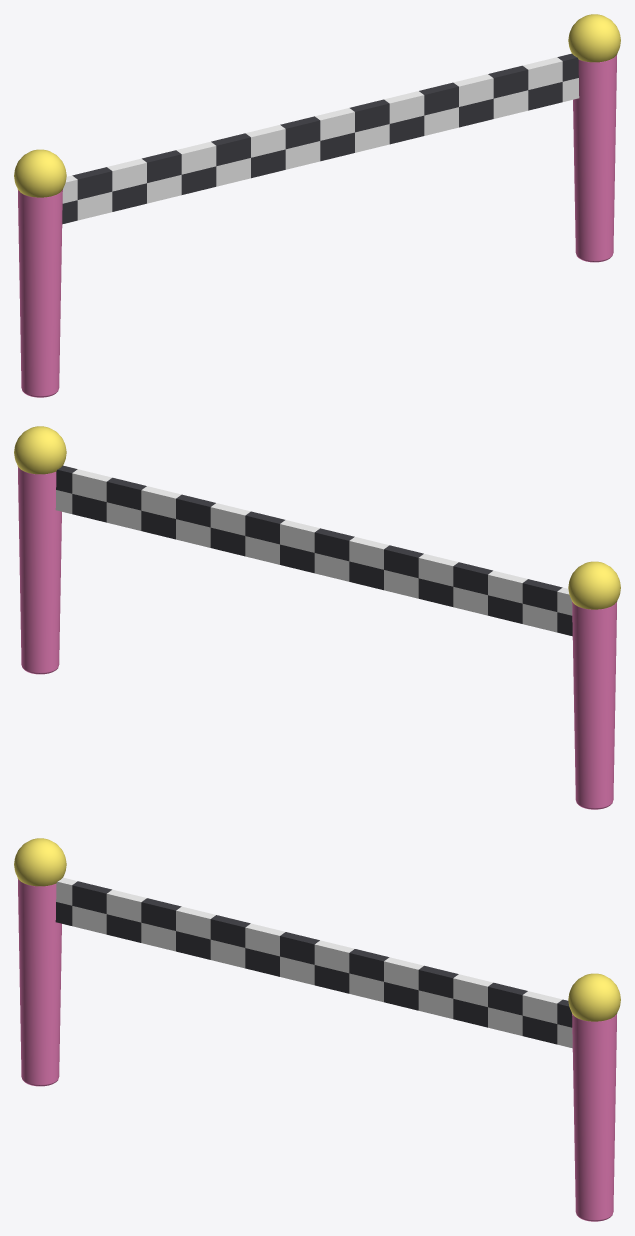
Rendered from finish.glb.
3 renders of one model, top to bottom at view 1: azimuth 30°, elevation 25°; view 2: azimuth 150°, elevation 25°; view 3: azimuth 330°, elevation 25°, orthographic.
Parts seen in each view (by area): view 1: FinPost-1, FinPost1, FinBall-1, FinBall1, Check13_1, Check1_1, Check4_1, Check7_1, Check10_1, Check2_1, Check5_1, Check8_1 (+20 smaller); view 2: FinPost-1, FinPost1, FinBall-1, FinBall1, Check13_1, Check1_1, Check4_1, Check7_1, Check10_1, Check2_1, Check5_1, Check8_1 (+20 smaller); view 3: FinPost1, FinPost-1, FinBall1, FinBall-1, Check2_1, Check11_1, Check14_1, Check5_1, Check8_1, Check13_1, Check1_1, Check3_1 (+20 smaller).
Boxes of the visible parts, x1,y1,x2,y2 form: FinPost-1: (18, 189, 62, 397); FinPost1: (573, 54, 617, 262); FinBall-1: (14, 149, 66, 197); FinBall1: (568, 14, 620, 62); Check13_1: (488, 65, 528, 98); Check1_1: (72, 167, 112, 199); Check4_1: (176, 141, 216, 174); Check7_1: (280, 116, 320, 149); Check10_1: (384, 91, 424, 123); Check2_1: (107, 158, 146, 191); Check5_1: (211, 133, 250, 166); Check8_1: (315, 108, 354, 140); FinPost-1: (572, 601, 616, 809); FinPost1: (17, 466, 61, 674); FinBall-1: (568, 561, 620, 609); FinBall1: (14, 426, 66, 474); Check13_1: (106, 477, 146, 510); Check1_1: (522, 579, 562, 611); Check4_1: (418, 553, 458, 586); Check7_1: (314, 528, 354, 561); Check10_1: (210, 503, 250, 535); Check2_1: (488, 570, 527, 603); Check5_1: (384, 545, 423, 578); Check8_1: (280, 520, 319, 552); FinPost1: (572, 1013, 616, 1221); FinPost-1: (17, 878, 61, 1086); FinBall1: (568, 973, 620, 1021); FinBall-1: (14, 838, 66, 886); Check2_1: (106, 889, 146, 922); Check11_1: (418, 965, 458, 998); Check14_1: (522, 991, 562, 1023); Check5_1: (210, 915, 250, 947); Check8_1: (314, 940, 354, 973); Check13_1: (488, 982, 527, 1015); Check1_1: (72, 881, 111, 913); Check3_1: (141, 898, 181, 930).
Size of the model in its own units: 18.4 by 7 by 1.4.
